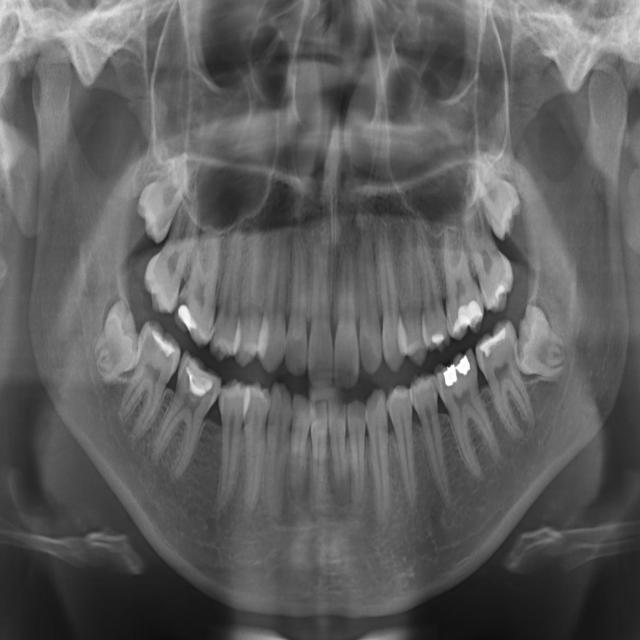3M ESPE Implant: (124, 146, 196, 245)
AGS Medikal Implant: (353, 231, 383, 375)
AMerOss Implant: (373, 206, 407, 376)
Amalgam filling: (392, 217, 428, 369)
Anthogyr Implant: (411, 212, 451, 354)
Bicon Implant: (436, 213, 486, 341)
BioHorizons Implant: (454, 181, 523, 316)
BioLife Implant: (458, 144, 535, 244)
Biomet 3i Implant: (516, 303, 571, 378)
Blue Sky Bio Implant: (469, 316, 542, 449)
Camlog Implant: (429, 345, 507, 484)
Caries: (133, 177, 213, 317)
Composite filling: (407, 370, 455, 515)
Cowellmedi Implant: (385, 382, 425, 512)
Crown: (364, 386, 394, 528)
DENTSPLY Implant: (348, 399, 365, 509)
Dentatus Implant: (327, 394, 349, 514)
Dentis Implant: (309, 400, 329, 507)
Dentium Implant: (287, 391, 314, 505)
Euroteknika Implant: (262, 380, 293, 518)
Filling: (237, 381, 270, 517)
Frontier Implant: (207, 377, 247, 519)
Hiossen Implant: (166, 217, 238, 349)
Implant: (111, 315, 188, 451)
Implant Direct: (144, 348, 229, 484)
Keystone Dental Implant: (97, 362, 99, 363)
MIS Implant: (205, 221, 249, 366)
Mandible: (231, 219, 270, 369)
Maxilla: (258, 216, 288, 374)
Megagen Implant: (284, 229, 313, 377)
Neodent Implant: (308, 229, 336, 393)
Neoss Implant: (334, 236, 362, 390)
